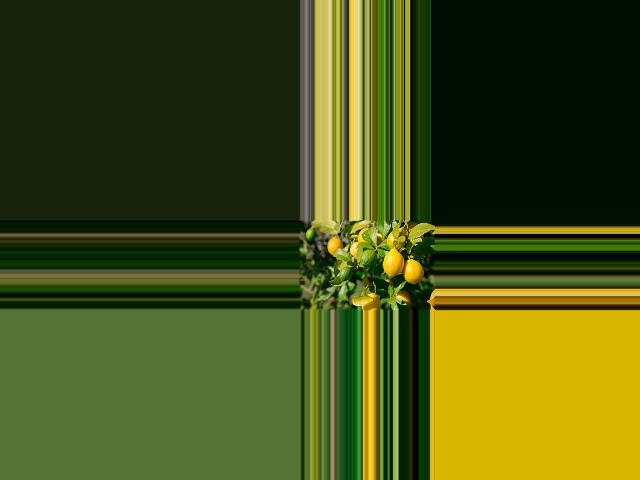lemon: (323, 235, 343, 260)
